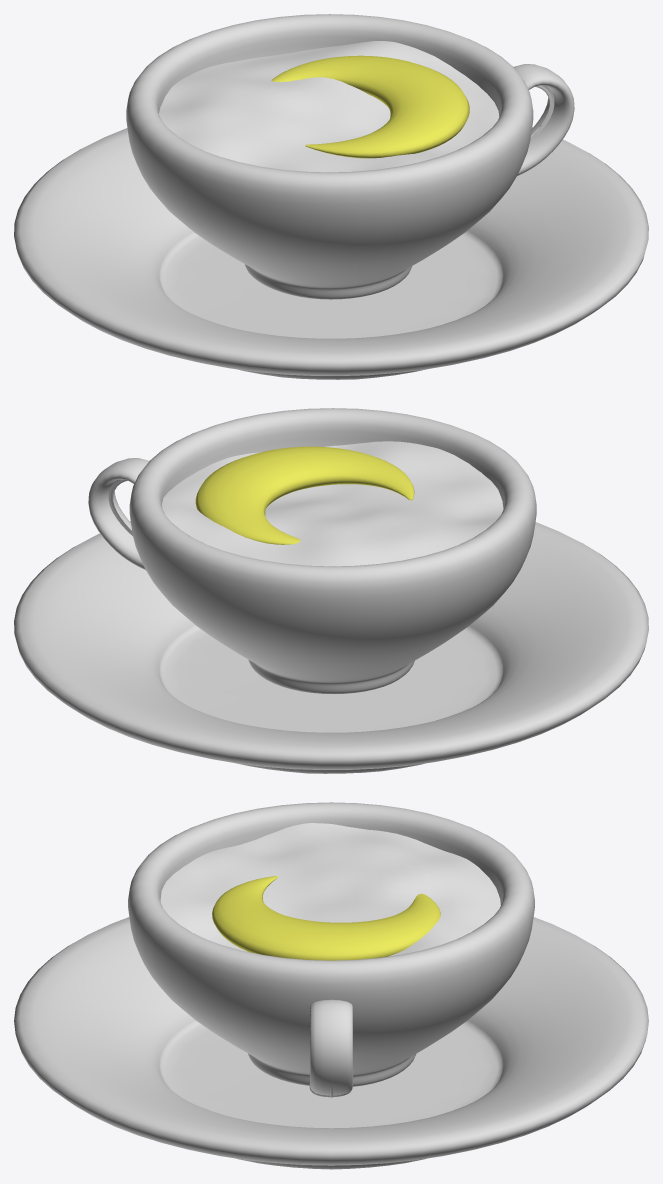
File: starlight.fbx
3 renders of one model, top to bottom at view 1: azimuth 30°, elevation 25°; view 2: azimuth 150°, elevation 25°; view 3: azimuth 270°, elevation 25°, orthographic.
Parts seen in each view (by area): view 1: coaster, liquid, moon; view 2: coaster, liquid, moon; view 3: coaster, liquid, moon.
Part boxes in pixels (bbox=[...]): coaster: bbox=[14, 14, 648, 379]; liquid: bbox=[159, 41, 499, 172]; moon: bbox=[271, 55, 469, 158]; coaster: bbox=[14, 408, 648, 773]; liquid: bbox=[162, 441, 503, 566]; moon: bbox=[195, 446, 414, 544]; coaster: bbox=[14, 802, 648, 1169]; liquid: bbox=[160, 823, 500, 956]; moon: bbox=[212, 876, 440, 960].
Size of what is drawn, in the model's own units: 543 by 200 by 543.
